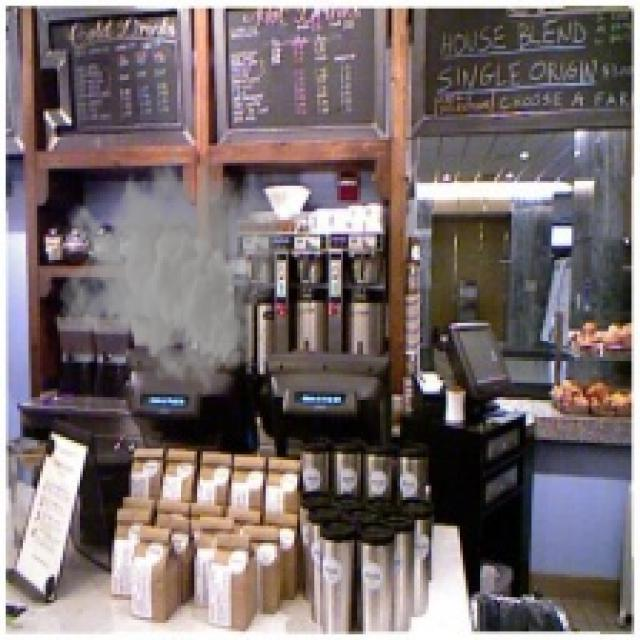Smoke: (57, 137, 286, 394)
